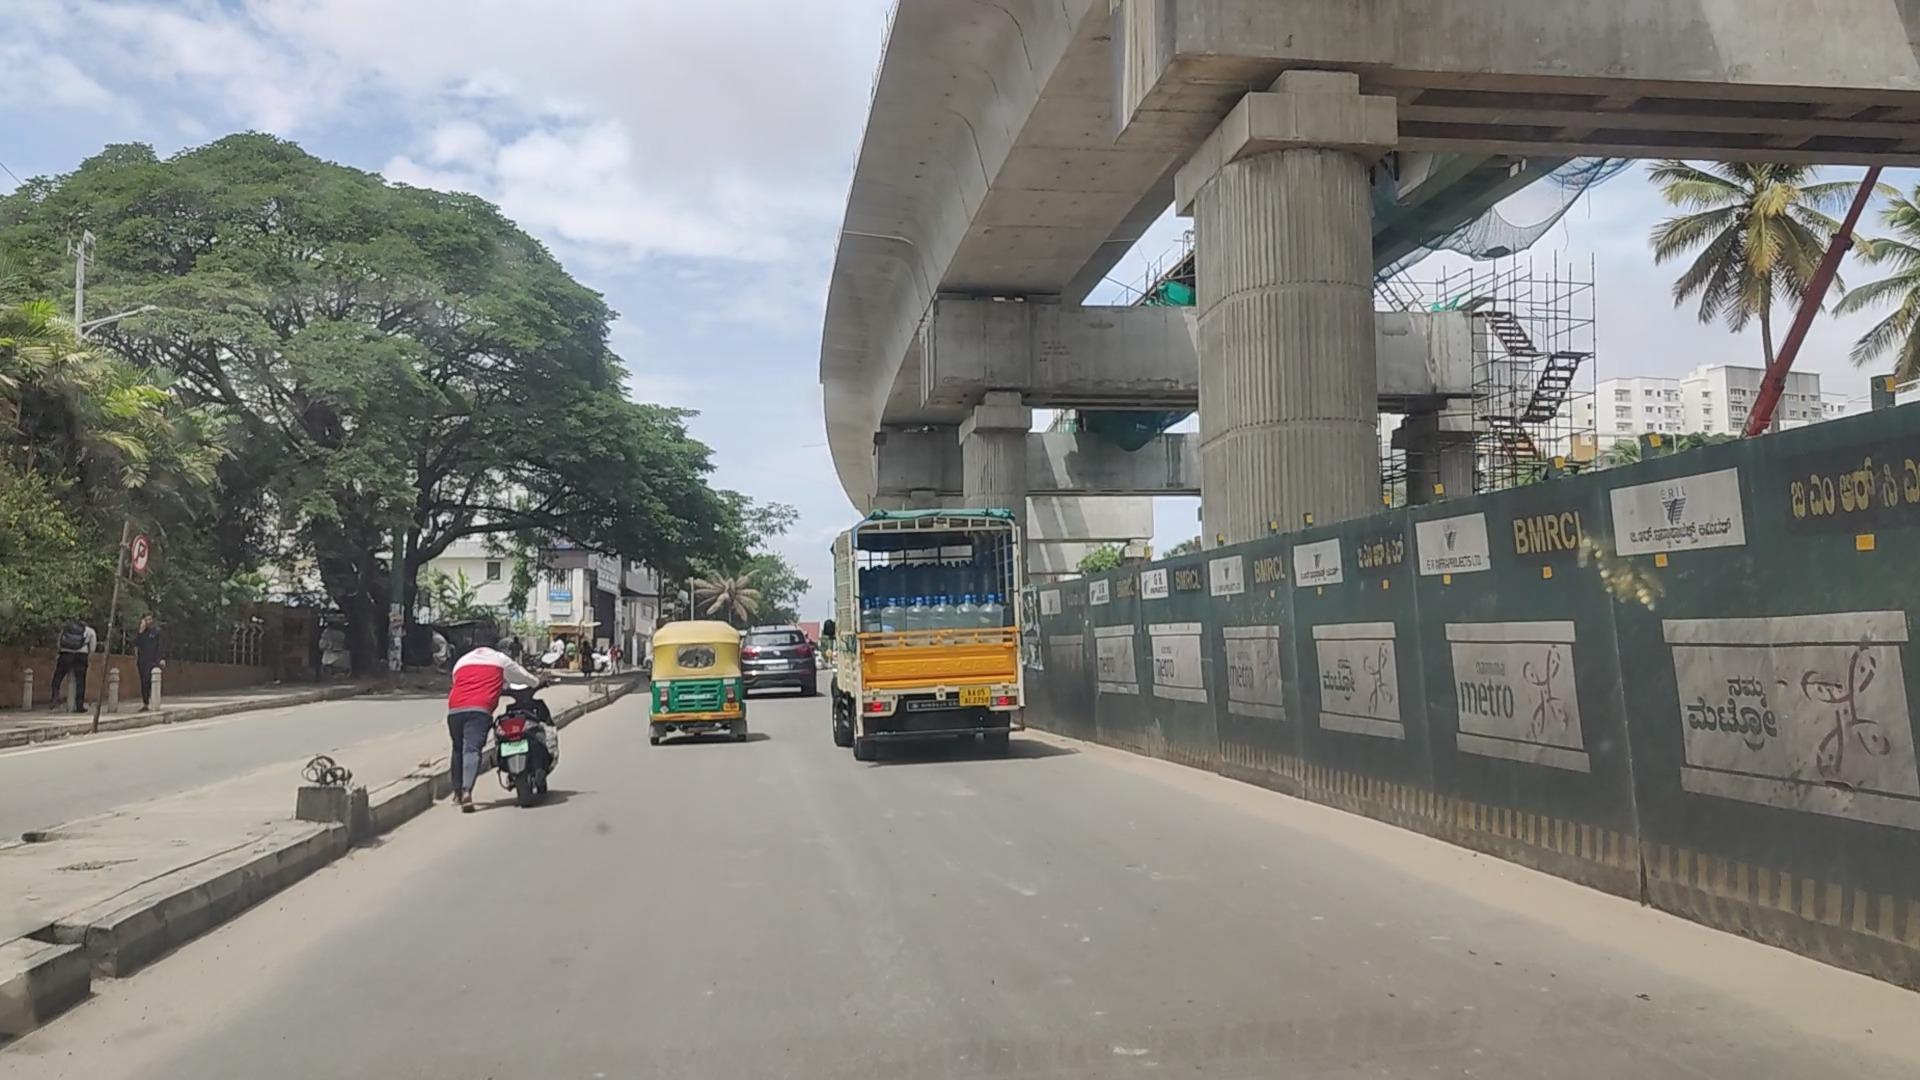HMV: (831, 516, 1027, 762)
LMV: (650, 621, 746, 738)
